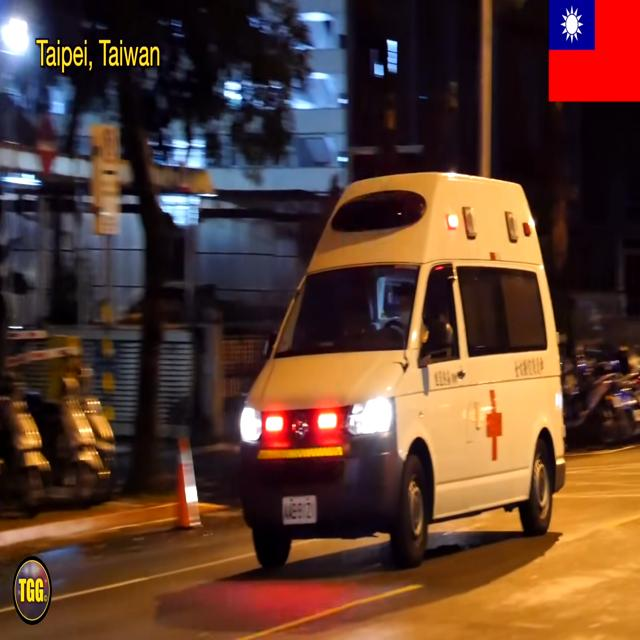emergency-vehicles: (218, 148, 570, 580)
